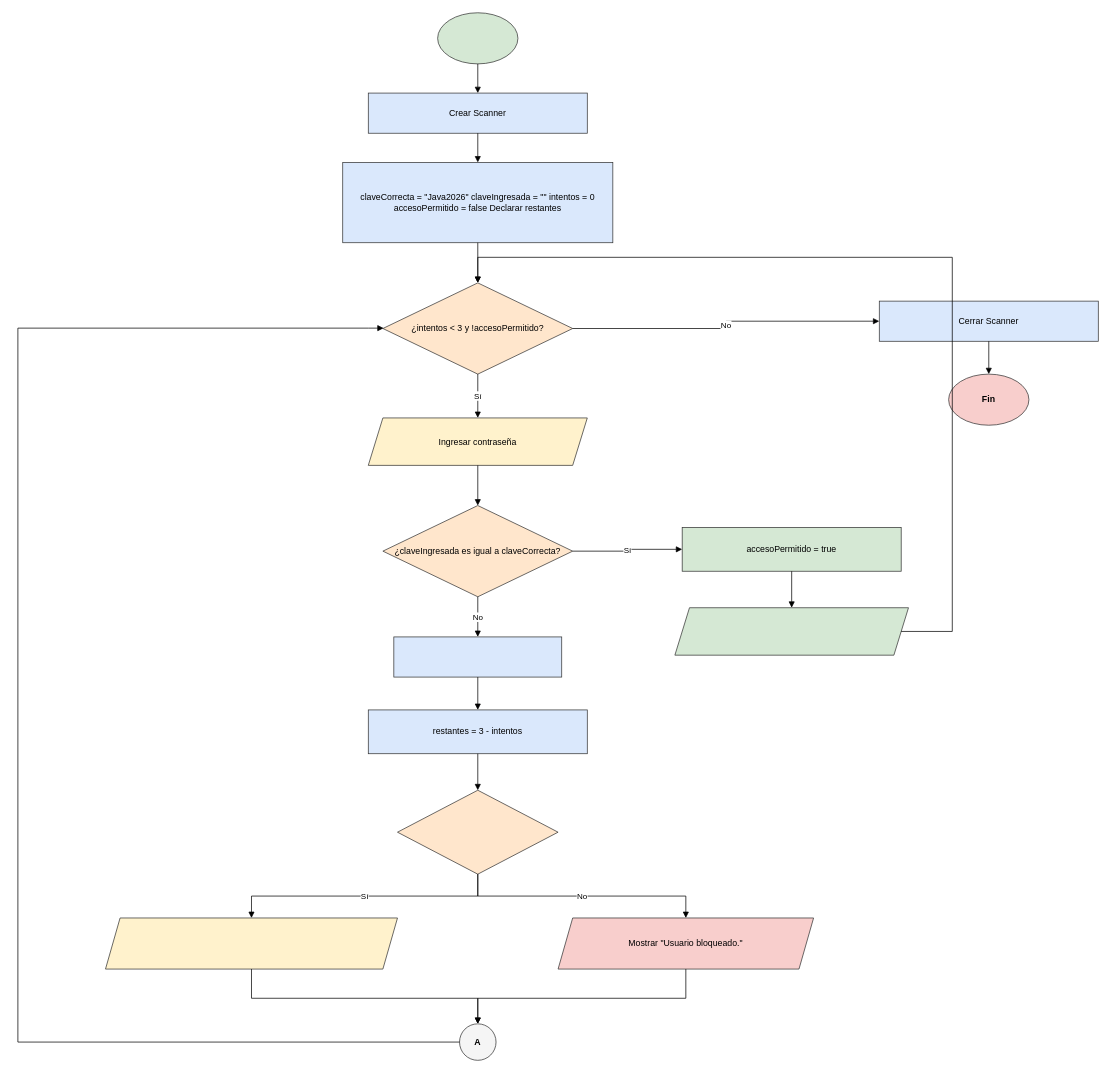
Some shapes in this 1111 by 1073 pixel diagram are drawn without their labels. Each missing label, with the centre of its shape:
Inicio: point 477,38
intentos++: point 477,656
Mostrar "Acceso permitido.": point 791,631
Mostrar contraseña incorrecta e intentos restantes: point 251,943
¿restantes > 0?: point 477,831
